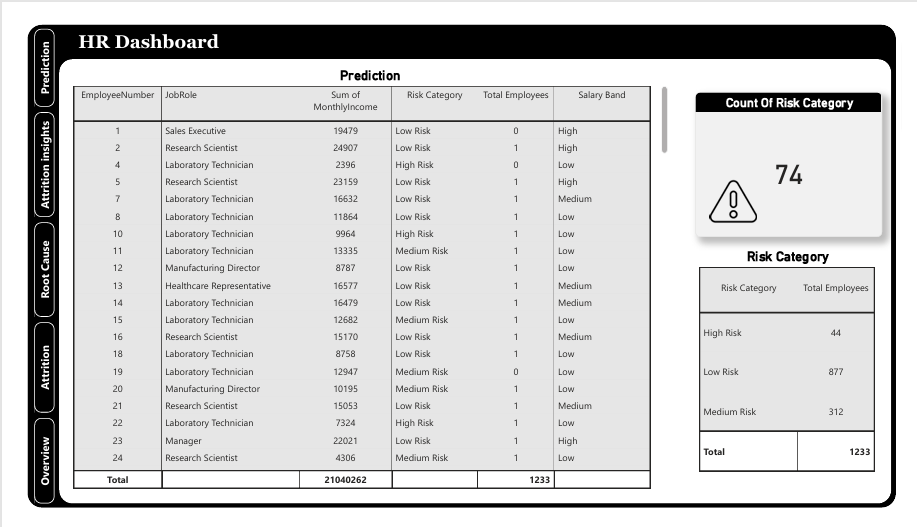

This screenshot's page, from the dashboard's own definition file:
{"tool":"powerbi","page":{"name":"Prediction","canvas":[1280,720],"ordinal":4},"visuals":[{"type":"shape","box":[12.5,9,1259.1,701.2],"z":0},{"type":"shape","box":[59.1,59.1,1206.3,644.8],"z":1000},{"type":"shape","box":[74.3,8.6,228.6,50],"z":2000},{"type":"actionButton","box":[23.3,580.3,28.7,123.6],"z":3000},{"type":"actionButton","box":[23.3,440.6,28.7,131.6],"z":4000},{"type":"actionButton","box":[23.3,296.4,28.7,136.1],"z":5000},{"type":"actionButton","box":[23.3,136.1,28.7,152.2],"z":6000},{"type":"actionButton","box":[23.3,15.2,28.7,112.8],"z":7000},{"type":"tableEx","title":"Prediction","fields":{"Values":["FACT_Employee_Records.EmployeeNumber","DIM_Employee.JobRole","Sum(FACT_Employee_Records.MonthlyIncome)","FACT_Employee_Records.Risk Category","Key-Measures.Total Employees","FACT_Employee_Records.Salary Band New"]},"box":[74.3,71.4,871.4,615.7],"z":8000},{"type":"card","title":"Count Of Risk Category","fields":{"Values":["CountNonNull(FACT_Employee_Records.Risk Category)"]},"box":[980.8,106.9,271.4,210],"z":9000,"group":"g1"},{"type":"tableEx","title":"Risk Category ","fields":{"Values":["FACT_Employee_Records.Risk Category","Key-Measures.Total Employees"]},"box":[981.4,334.3,268.6,352.9],"z":10000},{"type":"image","box":[995.7,231.4,80,68.6],"z":11000,"group":"g1"},{"type":"group","id":"g1","title":"Group 1","box":[980.8,106.9,271.4,210],"z":11001}]}

Visuals, with their boxes in screenshot pixels (x1, y1, x2, y2), scaled from the page's 1280x720 canvas onto the 917x527 screenshot:
shape: x1=9 y1=7 x2=911 y2=520
shape: x1=42 y1=43 x2=907 y2=515
shape: x1=53 y1=6 x2=217 y2=43
actionButton: x1=17 y1=425 x2=37 y2=515
actionButton: x1=17 y1=322 x2=37 y2=419
actionButton: x1=17 y1=217 x2=37 y2=317
actionButton: x1=17 y1=100 x2=37 y2=211
actionButton: x1=17 y1=11 x2=37 y2=94
"Prediction" tableEx: x1=53 y1=52 x2=678 y2=503
"Count Of Risk Category" card: x1=703 y1=78 x2=897 y2=232
"Risk Category " tableEx: x1=703 y1=245 x2=896 y2=503
image: x1=713 y1=169 x2=771 y2=220
"Group 1" group: x1=703 y1=78 x2=897 y2=232
